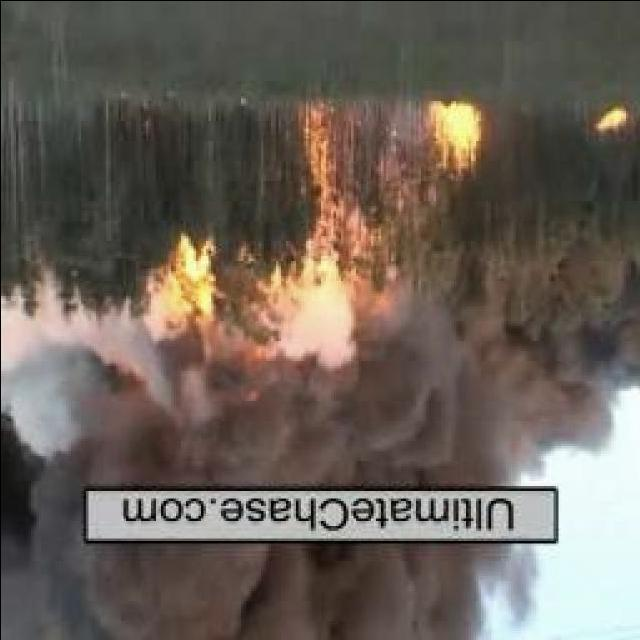Fire: (292, 101, 348, 242), (156, 234, 218, 330), (414, 100, 482, 177), (591, 98, 625, 133)
